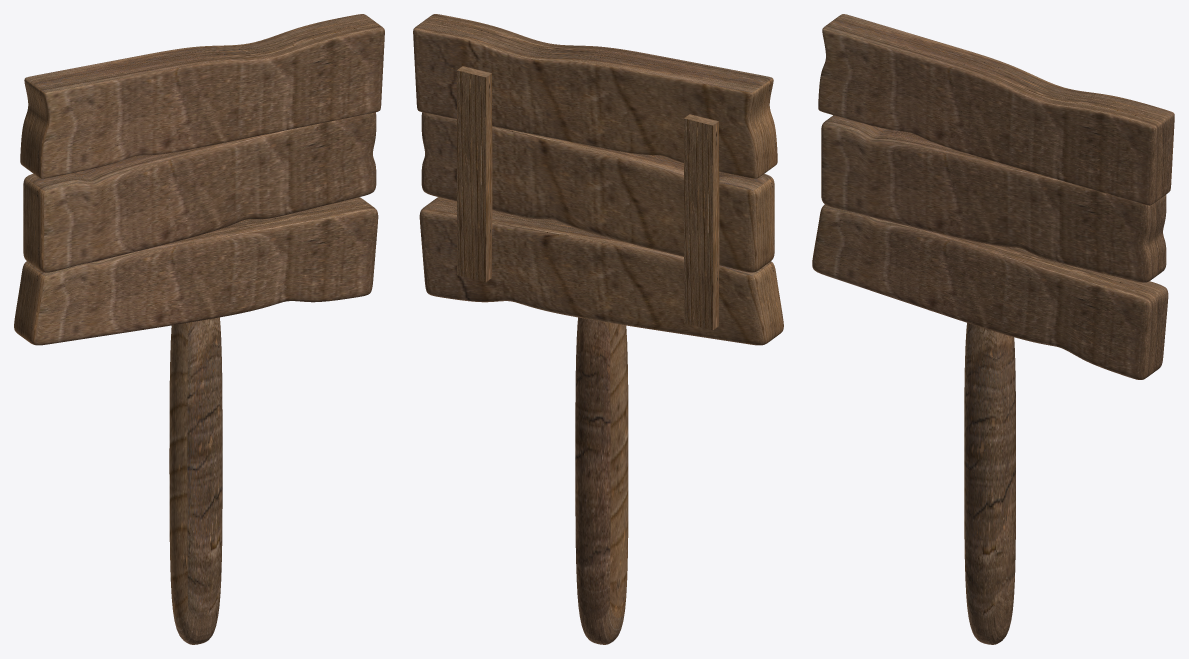
File: Signpost.fbx
3 views of the same model, side by side, from view 1: azimuth 30°, elevation 25°; view 2: azimuth 150°, elevation 25°; view 3: azimuth 330°, elevation 25° (orthographic). The views are drawn at different scales.
Visible parts, largest first — view 1: Cube.003, Cube.002, Cube.001, Cube; view 2: Cube.003, Cube.001, Cube.002, Cube, Cube.005, Cube.004; view 3: Cube.003, Cube.002, Cube.001, Cube.
Part boxes in pixels (bbox=[...]): Cube.003: bbox=[20, 14, 384, 178]; Cube.002: bbox=[23, 112, 376, 272]; Cube.001: bbox=[14, 197, 378, 345]; Cube: bbox=[169, 317, 222, 644]; Cube.003: bbox=[413, 14, 777, 178]; Cube.001: bbox=[419, 197, 783, 345]; Cube.002: bbox=[421, 112, 774, 272]; Cube: bbox=[575, 317, 628, 644]; Cube.005: bbox=[457, 66, 492, 282]; Cube.004: bbox=[684, 114, 719, 330]; Cube.003: bbox=[818, 14, 1174, 205]; Cube.002: bbox=[821, 115, 1166, 282]; Cube.001: bbox=[812, 204, 1168, 379]; Cube: bbox=[964, 323, 1015, 644].
Bounding box in the file's own units: 1341 × 2165 × 189.
Materials: 3 (3 with a texture image).
